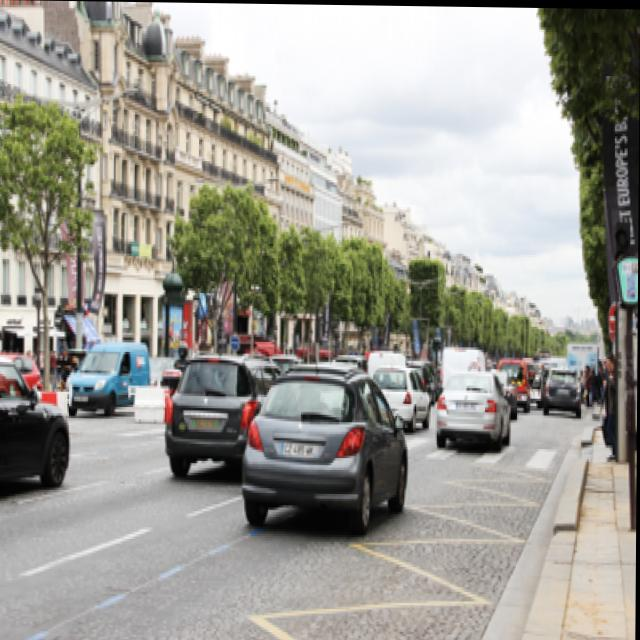licence: (281, 435, 322, 459)
